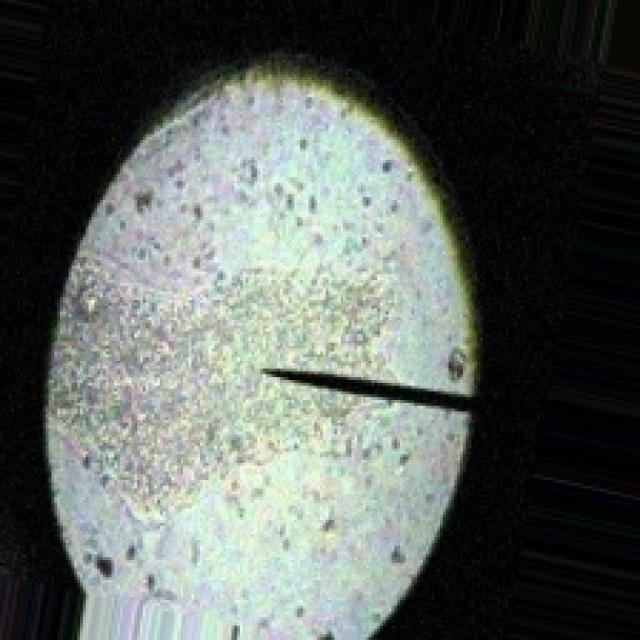Amoeba: (40, 52, 486, 637)
